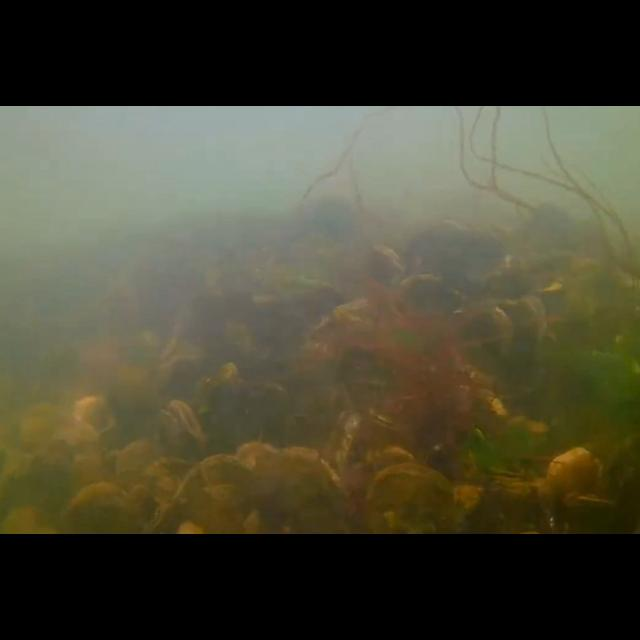Oyster-Closed: (544, 447, 604, 535), (368, 242, 407, 292)
Oyster-Indeterminate: (237, 442, 356, 534), (154, 455, 280, 535), (357, 462, 455, 534), (115, 438, 179, 530), (430, 306, 514, 368), (60, 482, 144, 534), (391, 272, 465, 324), (477, 298, 549, 347), (468, 383, 526, 425), (197, 360, 240, 394), (331, 298, 377, 328)
Oyster-Open: (150, 398, 210, 484), (322, 409, 362, 486), (362, 406, 420, 436)
